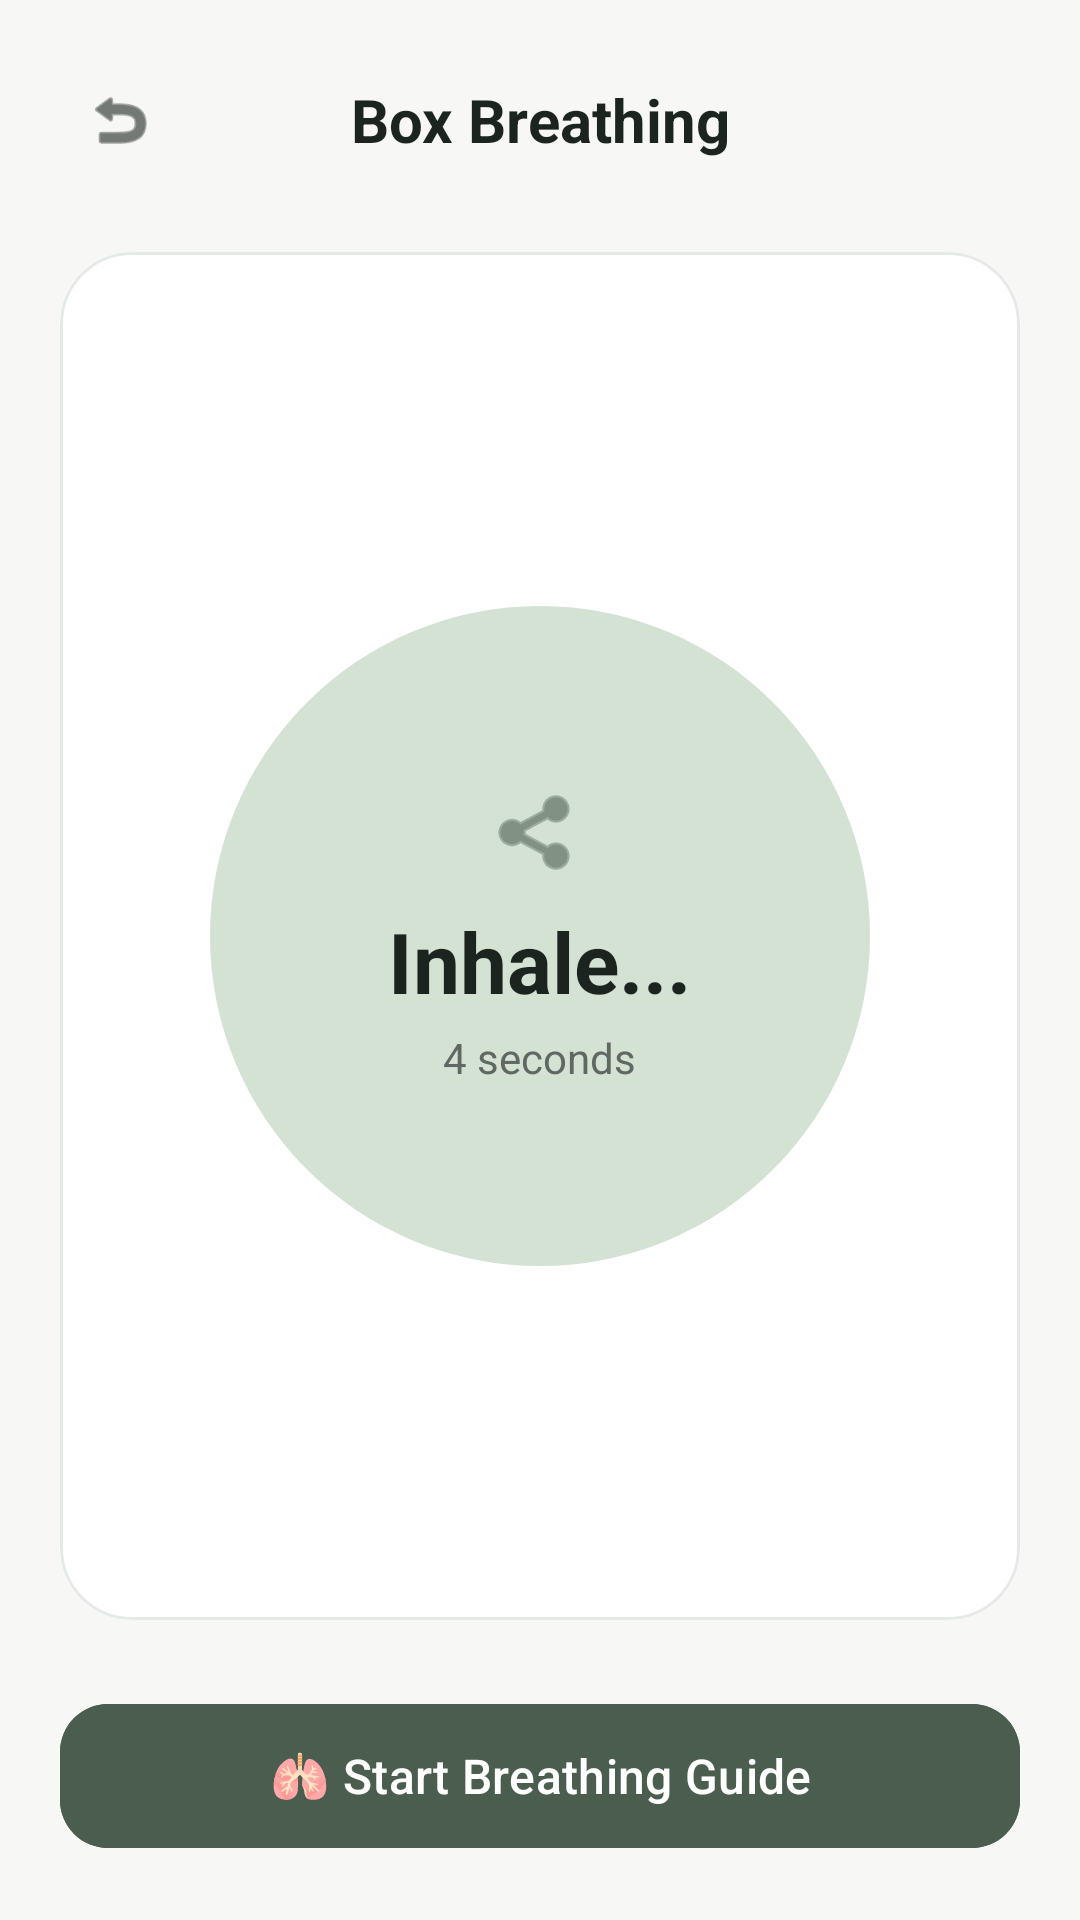

Point at icon controls on the screen. Image size 1080x1920, points as [x,y].
Back: [121,120]
